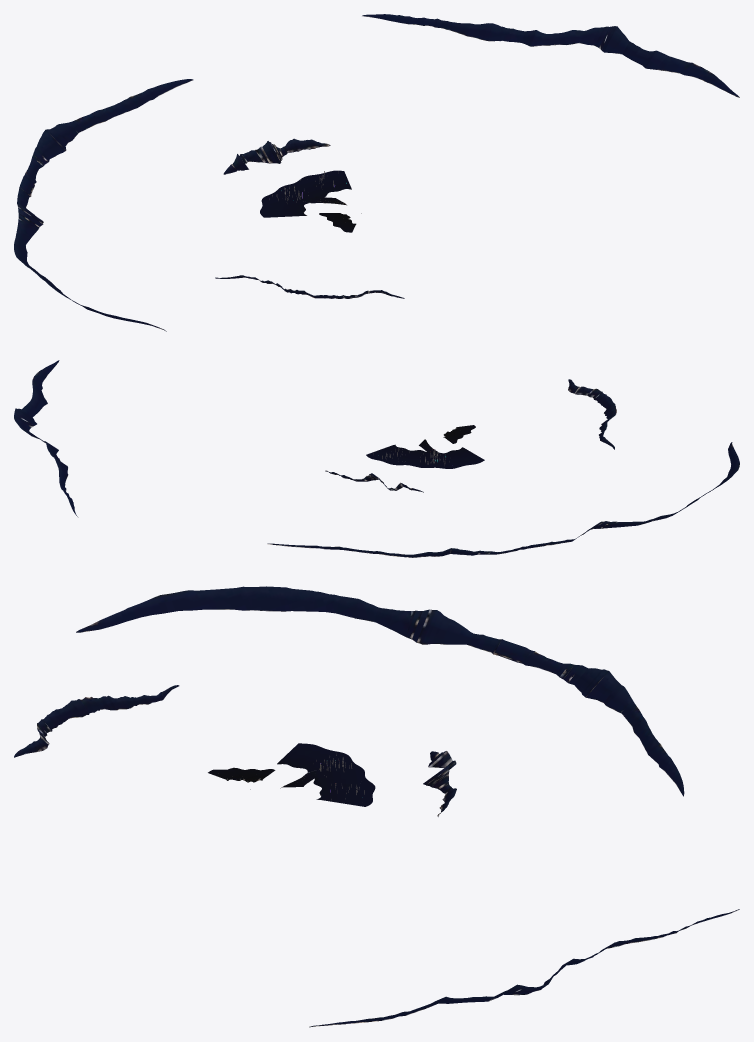
Rendered from room-phone.glb.
3 views of the same model, one above another, from view 1: azimuth 30°, elevation 25°; view 2: azimuth 150°, elevation 25°; view 3: azimuth 270°, elevation 25° (orthographic). The views are drawn at different scales.
Parts seen in each view (by area): view 1: Outside_Land; view 2: Outside_Land; view 3: Outside_Land.
Boxes of the visible parts, bbox=[...] form: Outside_Land: bbox=[14, 14, 739, 331]; Outside_Land: bbox=[14, 360, 739, 557]; Outside_Land: bbox=[14, 586, 739, 1027].
Size of what is drawn, in the model's own units: 61477 by 1529 by 44306.
Materials: 43 (15 with a texture image).
